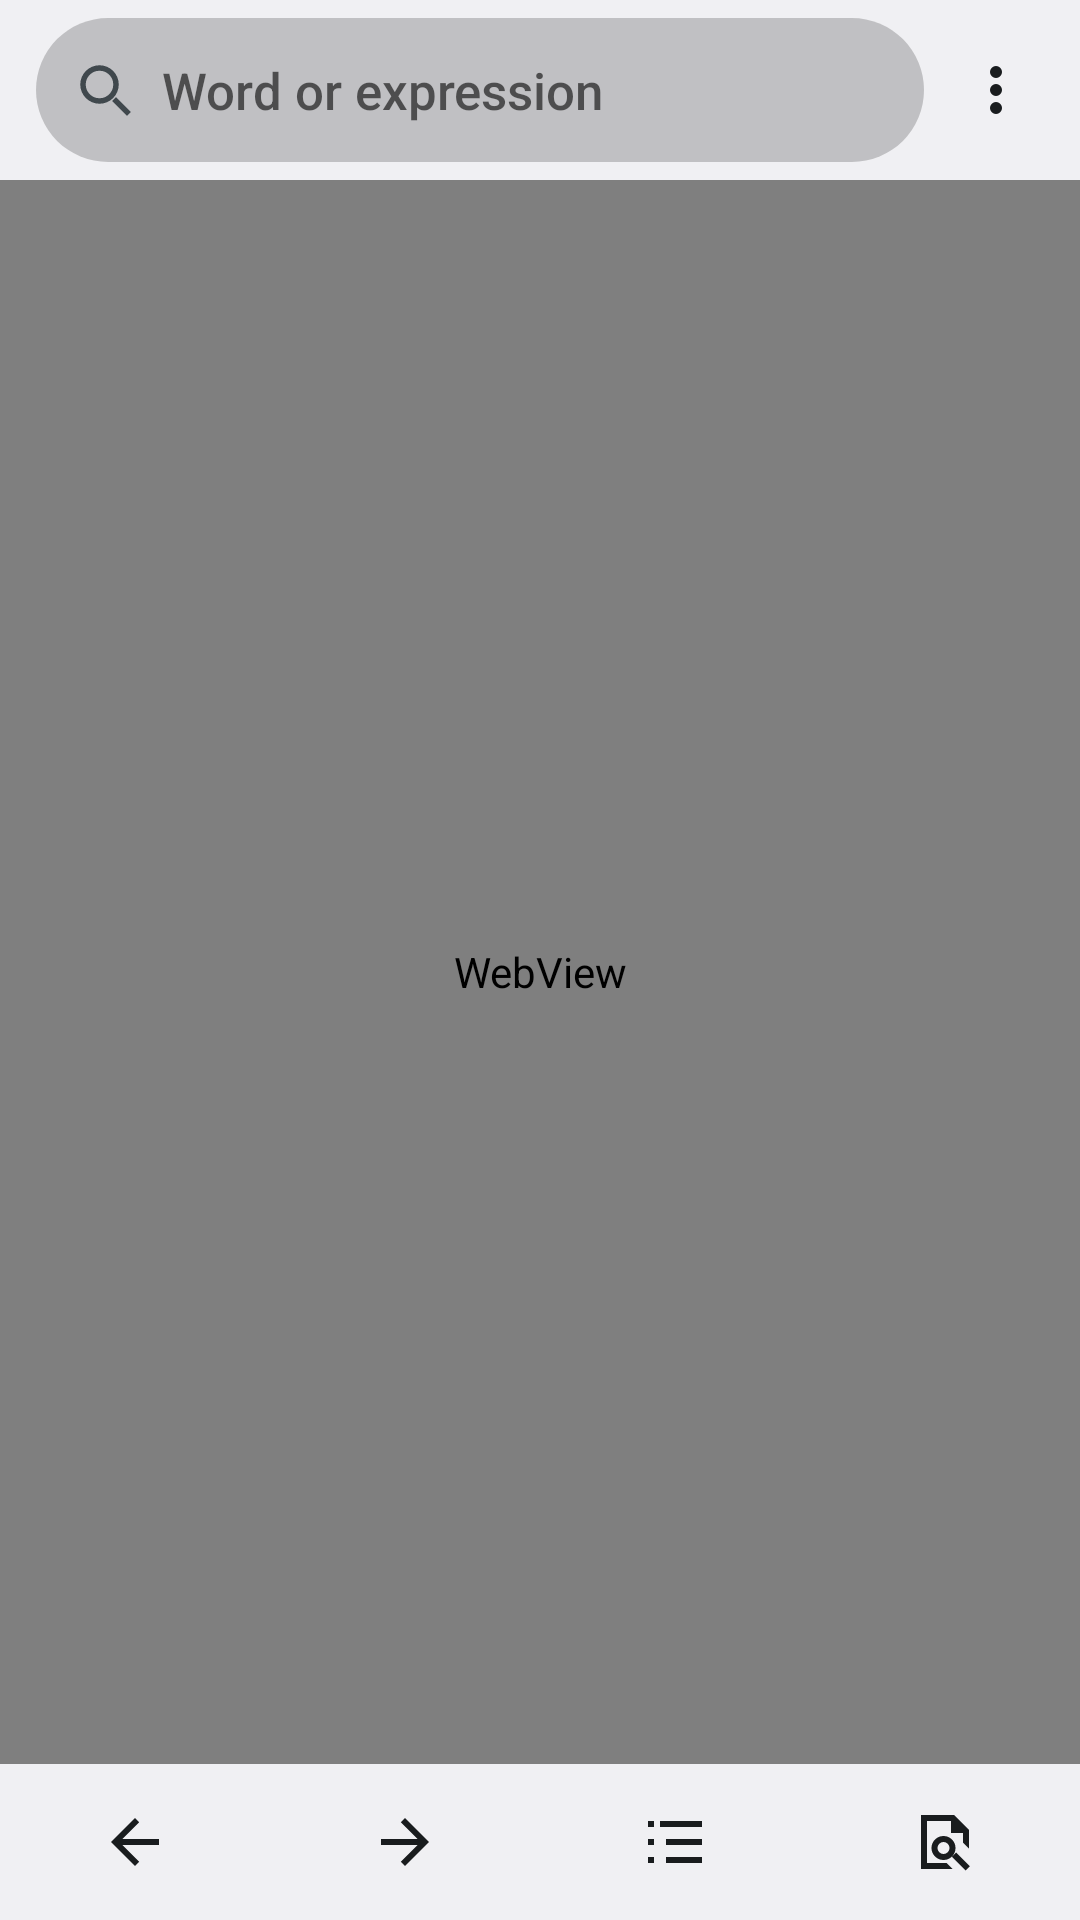

Where icons sit on this 1080px x 1920px app screen, as detection(x1, y1, x2, y2):
Back: detection(111, 1818, 159, 1866)
Contents: detection(648, 1821, 702, 1863)
Find in page: detection(921, 1815, 970, 1871)
Forward: detection(381, 1818, 429, 1866)
Menu: detection(990, 66, 1002, 114)
